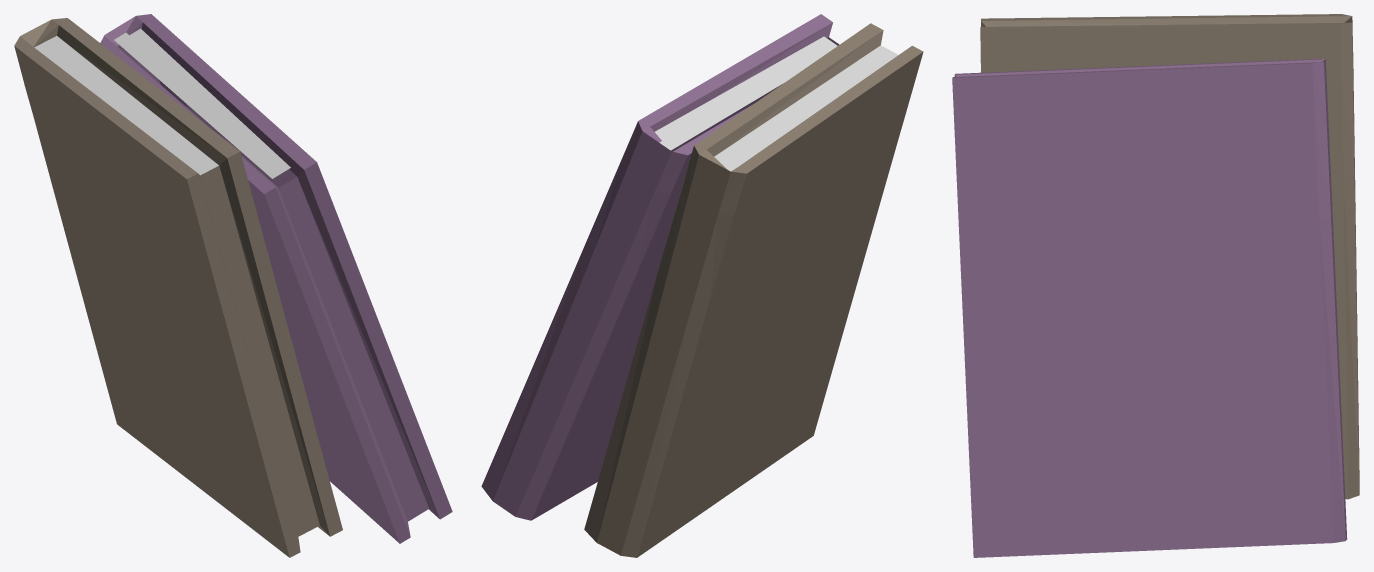
File: 2_books.glb
The picture shows the model from 3 angles, left to right: view 1: azimuth 30°, elevation 25°; view 2: azimuth 150°, elevation 25°; view 3: azimuth 270°, elevation 25°; orthographic projection. The views are drawn at different scales.
Visible parts, largest first — view 1: 2_books; view 2: 2_books; view 3: 2_books.
Part boxes in pixels (x1,y1,x2,y2): 2_books: (14, 14, 452, 557); 2_books: (481, 14, 923, 557); 2_books: (952, 14, 1359, 557).
Size of the model in its own units: 0.1662 by 0.2552 by 0.2096.
